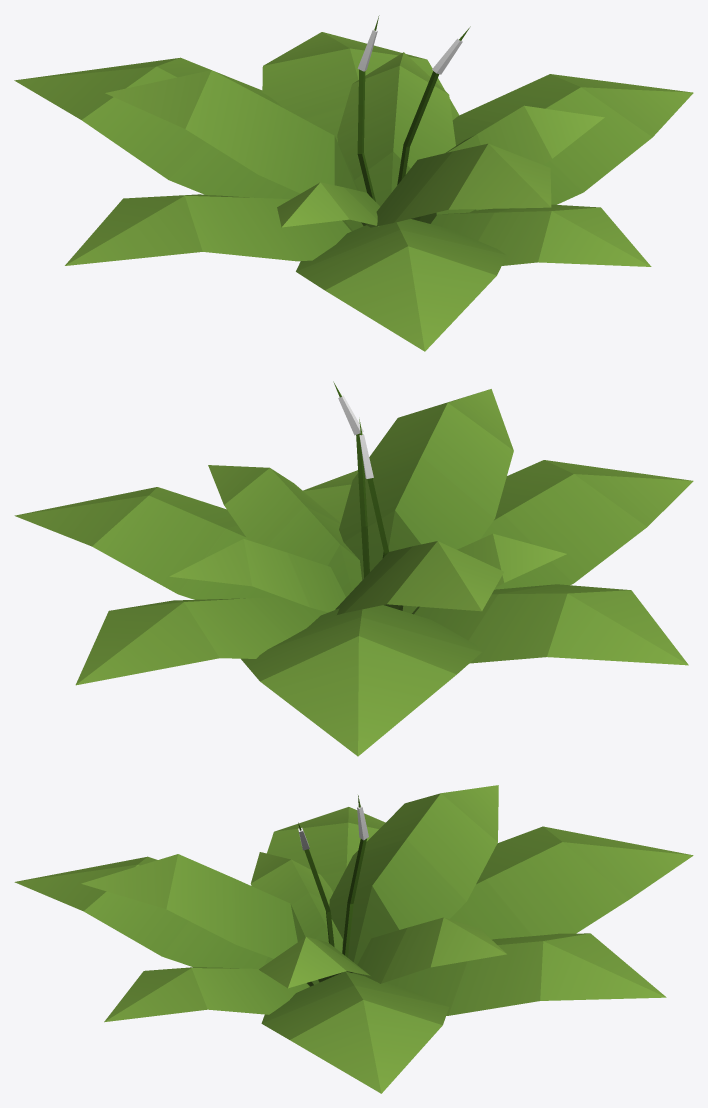
File: grass1.fbx
The picture shows the model from 3 angles, top to bottom: view 1: azimuth 30°, elevation 25°; view 2: azimuth 150°, elevation 25°; view 3: azimuth 270°, elevation 25°; orthographic projection. The views are drawn at different scales.
Parts seen in each view (by area): view 1: Bush_plain_big; view 2: Bush_plain_big; view 3: Bush_plain_big.
Part boxes in pixels (x1,y1,x2,y2): Bush_plain_big: (14, 15, 693, 351); Bush_plain_big: (14, 381, 693, 756); Bush_plain_big: (14, 785, 693, 1093).
Bounding box in the file's own units: 24.41 × 8.83 × 24.23.
Materials: 1 (1 with a texture image).
